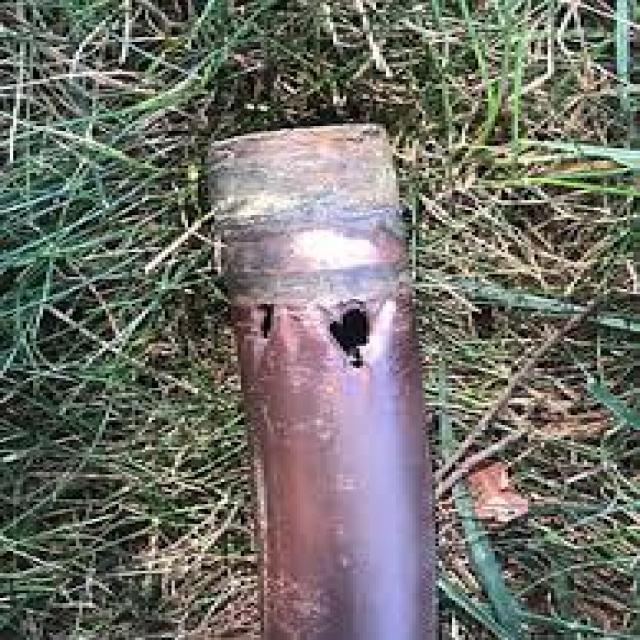crack: (252, 304, 289, 352)
hole: (331, 302, 381, 378)
